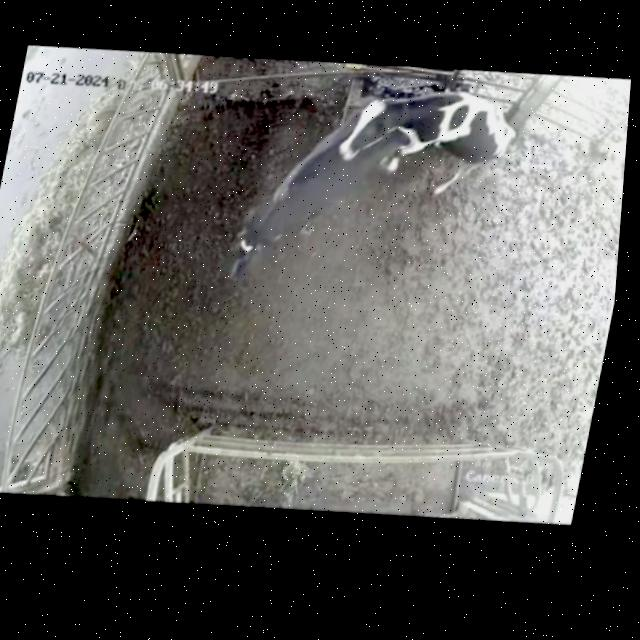ride: (322, 64, 543, 229)
stand: (194, 92, 397, 311)
